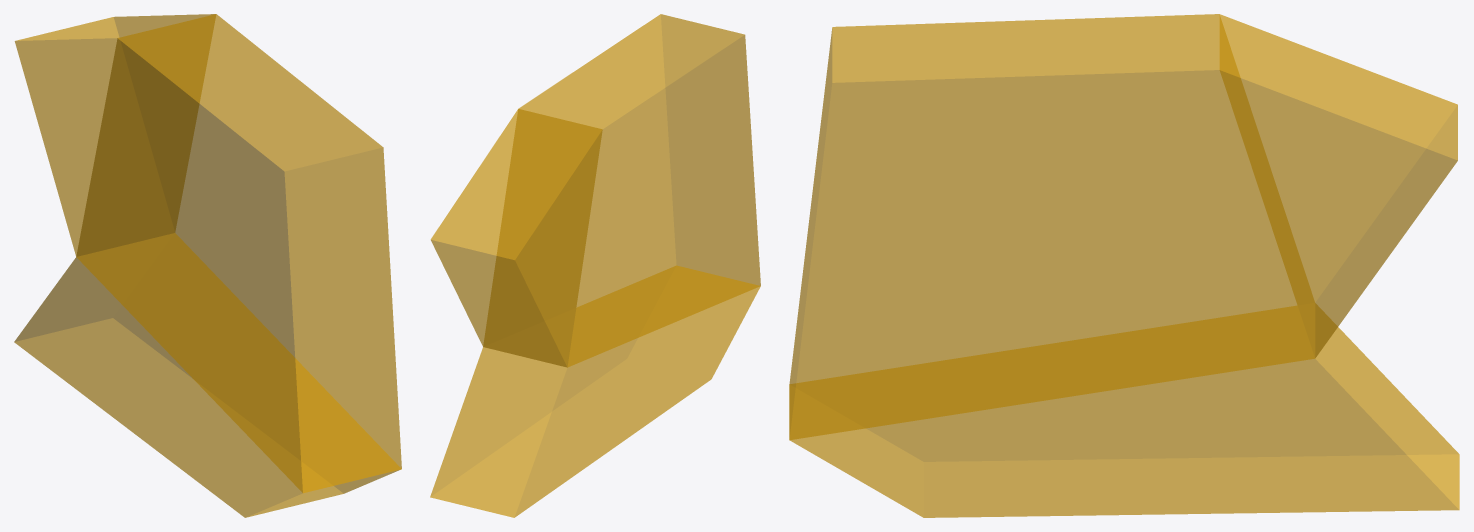
The model's file is SM_Veh_Ship_S_Rudder_02_Collision.fbx.
The picture shows the model from 3 angles, left to right: view 1: azimuth 30°, elevation 25°; view 2: azimuth 150°, elevation 25°; view 3: azimuth 270°, elevation 25°; orthographic projection. The views are drawn at different scales.
Visible parts, largest first — view 1: SM_Veh_Ship_S_Rudder_02_Collision; view 2: SM_Veh_Ship_S_Rudder_02_Collision; view 3: SM_Veh_Ship_S_Rudder_02_Collision.
Part boxes in pixels (x1,y1,x2,y2): SM_Veh_Ship_S_Rudder_02_Collision: (14, 14, 401, 517); SM_Veh_Ship_S_Rudder_02_Collision: (430, 14, 760, 517); SM_Veh_Ship_S_Rudder_02_Collision: (789, 14, 1459, 517).
Bounding box in the file's own units: 45.14 × 168 × 228.
